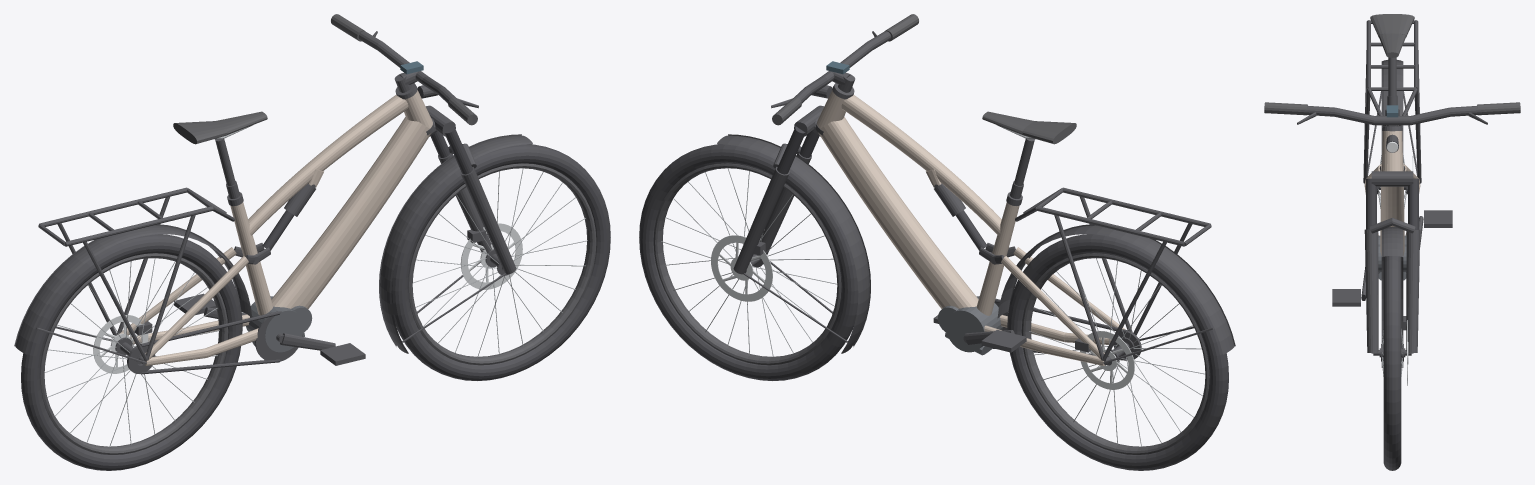
File: ebike-mtb-bulls-vuca-evo-fs-2.glb
The picture shows the model from 3 angles, left to right: view 1: azimuth 30°, elevation 25°; view 2: azimuth 150°, elevation 25°; view 3: azimuth 270°, elevation 25°; orthographic projection. The views are drawn at different scales.
Visible parts, largest first — view 1: front_wheel_tire, rear_wheel_tire, accessories_fenders, frame_downtube, accessories_rear_rack, front_wheel_rim, rear_wheel_rim, frame_toptube, fork_lowers, front_wheel_spokes, rear_wheel_spokes, rear_seatstays (+13 smaller); view 2: front_wheel_tire, rear_wheel_tire, accessories_fenders, frame_downtube, accessories_rear_rack, front_wheel_rim, rear_wheel_rim, frame_toptube, fork_lowers, rear_wheel_spokes, front_wheel_spokes, rear_seatstays (+11 smaller); view 3: front_wheel_tire, fork_lowers, accessories_fenders, accessories_rear_rack, cockpit_riser_bar, saddle_shell, drivetrain_crankset, fork_stanchions, cockpit_grips, frame_downtube, frame_headtube, fork_crown (+2 smaller).
Part boxes in pixels (left/top/right/bottom): front_wheel_tire: left=391, top=144, right=610, bottom=380; rear_wheel_tire: left=21, top=234, right=242, bottom=470; accessories_fenders: left=14, top=134, right=532, bottom=363; frame_downtube: left=271, top=117, right=431, bottom=308; accessories_rear_rack: left=38, top=187, right=234, bottom=361; front_wheel_rim: left=408, top=163, right=596, bottom=365; rear_wheel_rim: left=40, top=253, right=228, bottom=454; frame_toptube: left=248, top=95, right=408, bottom=235; fork_lowers: left=438, top=143, right=516, bottom=274; front_wheel_spokes: left=413, top=168, right=587, bottom=357; rear_wheel_spokes: left=44, top=258, right=219, bottom=447; rear_seatstays: left=117, top=247, right=248, bottom=359; front_wheel_tire: left=639, top=144, right=858, bottom=380; rear_wheel_tire: left=1007, top=234, right=1228, bottom=470; accessories_fenders: left=717, top=134, right=1235, bottom=363; frame_downtube: left=818, top=117, right=978, bottom=308; accessories_rear_rack: left=1015, top=187, right=1211, bottom=361; front_wheel_rim: left=653, top=163, right=841, bottom=365; rear_wheel_rim: left=1021, top=253, right=1209, bottom=454; frame_toptube: left=841, top=95, right=1001, bottom=235; fork_lowers: left=733, top=143, right=811, bottom=274; rear_wheel_spokes: left=1029, top=258, right=1204, bottom=446; front_wheel_spokes: left=661, top=168, right=837, bottom=356; rear_seatstays: left=1001, top=247, right=1125, bottom=359; front_wheel_tire: left=1383, top=256, right=1401, bottom=470; fork_lowers: left=1364, top=218, right=1420, bottom=352; accessories_fenders: left=1367, top=60, right=1417, bottom=367; accessories_rear_rack: left=1363, top=20, right=1421, bottom=183; cockpit_riser_bar: left=1299, top=105, right=1485, bottom=125; saddle_shell: left=1370, top=14, right=1414, bottom=57; drivetrain_crankset: left=1332, top=210, right=1452, bottom=306; fork_stanchions: left=1366, top=178, right=1418, bottom=229; cockpit_grips: left=1264, top=102, right=1520, bottom=115; frame_downtube: left=1380, top=162, right=1404, bottom=255; frame_headtube: left=1381, top=131, right=1403, bottom=171; fork_crown: left=1371, top=171, right=1413, bottom=186.
Bounding box in the file's own units: 1.94 × 1.06 × 0.7833.
